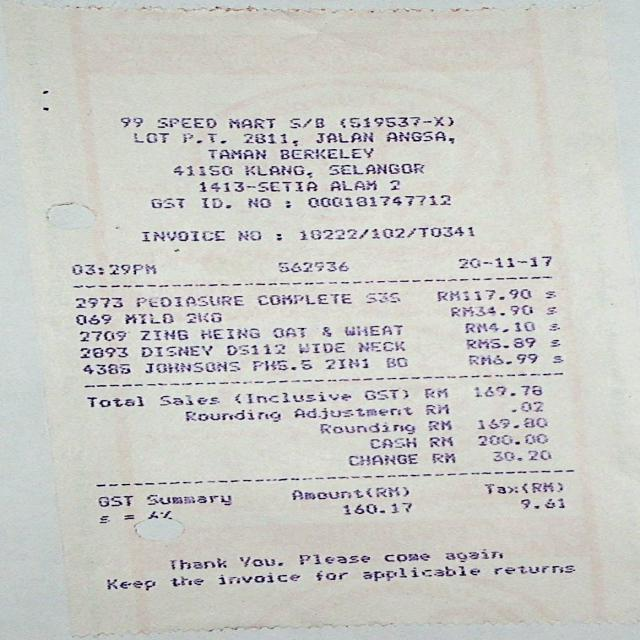text: (298, 226, 473, 240), (360, 565, 478, 581), (286, 486, 409, 500), (307, 195, 449, 207), (293, 406, 410, 419), (198, 180, 316, 192), (234, 391, 350, 403), (338, 116, 452, 128), (437, 287, 531, 301), (184, 409, 279, 422), (482, 479, 562, 494), (458, 255, 550, 268), (144, 492, 234, 505), (328, 163, 423, 175), (319, 422, 414, 434), (278, 147, 372, 159), (256, 293, 350, 305), (442, 304, 533, 316), (334, 501, 412, 515), (134, 296, 242, 306), (272, 260, 349, 274), (139, 230, 223, 242), (217, 572, 299, 584), (144, 362, 237, 372), (140, 344, 211, 357), (471, 417, 547, 429), (459, 320, 534, 332), (199, 325, 259, 340), (238, 163, 306, 176), (151, 115, 216, 128), (468, 353, 538, 365), (346, 453, 416, 465), (345, 322, 404, 336), (492, 564, 574, 574), (472, 433, 546, 444), (444, 548, 502, 562), (385, 130, 446, 143), (250, 357, 311, 370), (464, 337, 534, 348), (468, 385, 541, 395), (313, 131, 372, 143), (225, 343, 284, 355), (298, 554, 368, 564), (85, 395, 143, 407), (167, 558, 225, 570), (156, 394, 218, 405), (246, 133, 296, 146), (515, 496, 565, 509), (490, 450, 551, 460), (80, 362, 130, 374), (105, 578, 154, 590), (206, 149, 264, 159), (172, 165, 230, 175), (74, 296, 122, 308), (124, 312, 172, 324), (328, 179, 375, 191), (78, 347, 128, 358), (78, 330, 123, 342), (137, 329, 185, 340), (356, 341, 404, 352), (296, 342, 343, 353), (368, 437, 415, 448), (362, 389, 407, 400), (320, 358, 369, 368), (236, 230, 280, 241), (226, 118, 274, 128), (107, 264, 155, 274), (238, 556, 281, 567), (382, 552, 429, 562), (96, 495, 132, 508), (130, 131, 168, 143), (181, 132, 216, 144), (246, 198, 288, 208), (287, 117, 323, 128), (364, 292, 398, 303), (184, 312, 220, 322), (74, 314, 110, 324), (273, 327, 305, 338), (168, 576, 202, 586), (150, 198, 183, 208), (313, 570, 346, 580), (199, 198, 230, 208), (71, 264, 102, 274), (516, 400, 541, 412), (118, 117, 142, 128), (431, 452, 454, 463), (384, 357, 406, 368), (424, 404, 448, 414), (426, 420, 450, 430), (428, 436, 451, 446), (424, 388, 446, 398), (94, 514, 111, 525), (548, 352, 562, 364), (540, 288, 554, 299), (546, 321, 559, 332), (544, 306, 557, 316), (388, 179, 398, 190), (320, 326, 330, 337), (549, 338, 559, 346)
